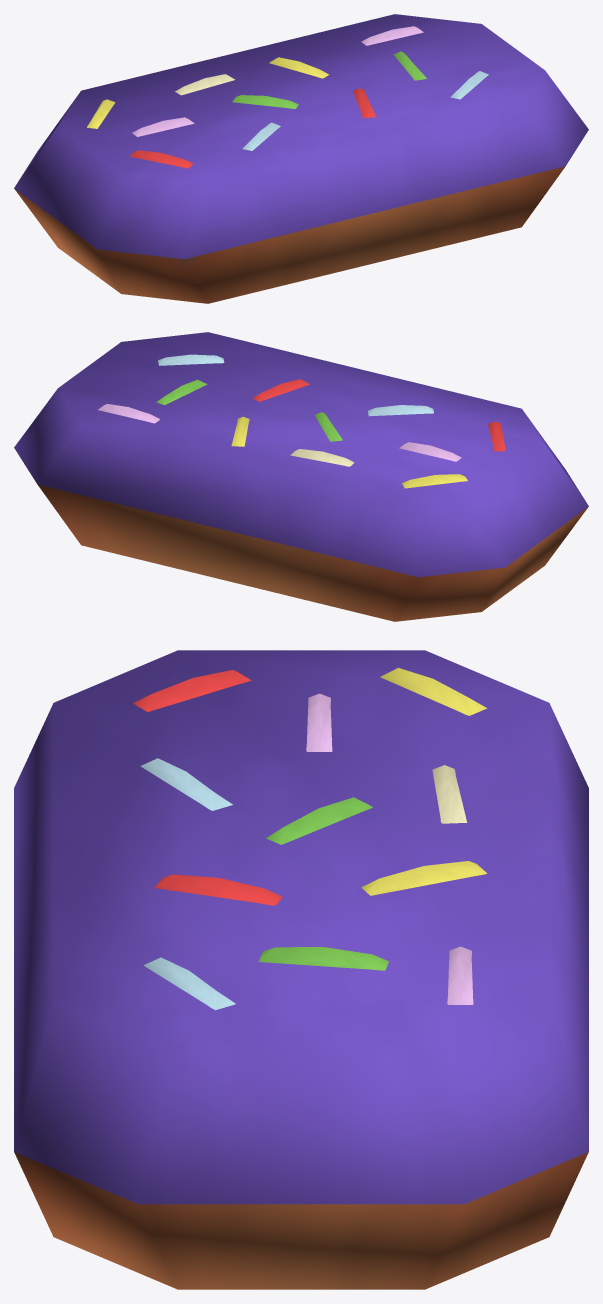
File: Doughnut_Bar_E_2.FBX
The picture shows the model from 3 angles, top to bottom: view 1: azimuth 30°, elevation 25°; view 2: azimuth 150°, elevation 25°; view 3: azimuth 270°, elevation 25°; orthographic projection. The views are drawn at different scales.
Visible parts, largest first — view 1: Doughnut_Bar; view 2: Doughnut_Bar; view 3: Doughnut_Bar.
Part boxes in pixels (<box>): Doughnut_Bar: <box>14,14,588,303</box>; Doughnut_Bar: <box>14,332,588,621</box>; Doughnut_Bar: <box>14,650,588,1289</box>.
Bounding box in the file's own units: 75.48 × 18.74 × 39.15.
